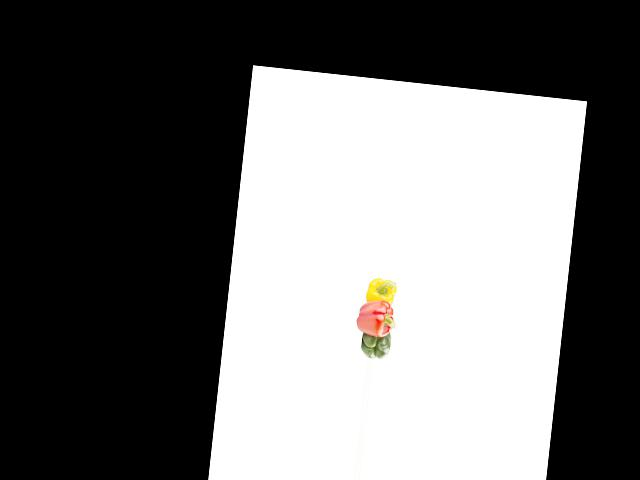bell_pepper: (359, 274, 400, 308)
